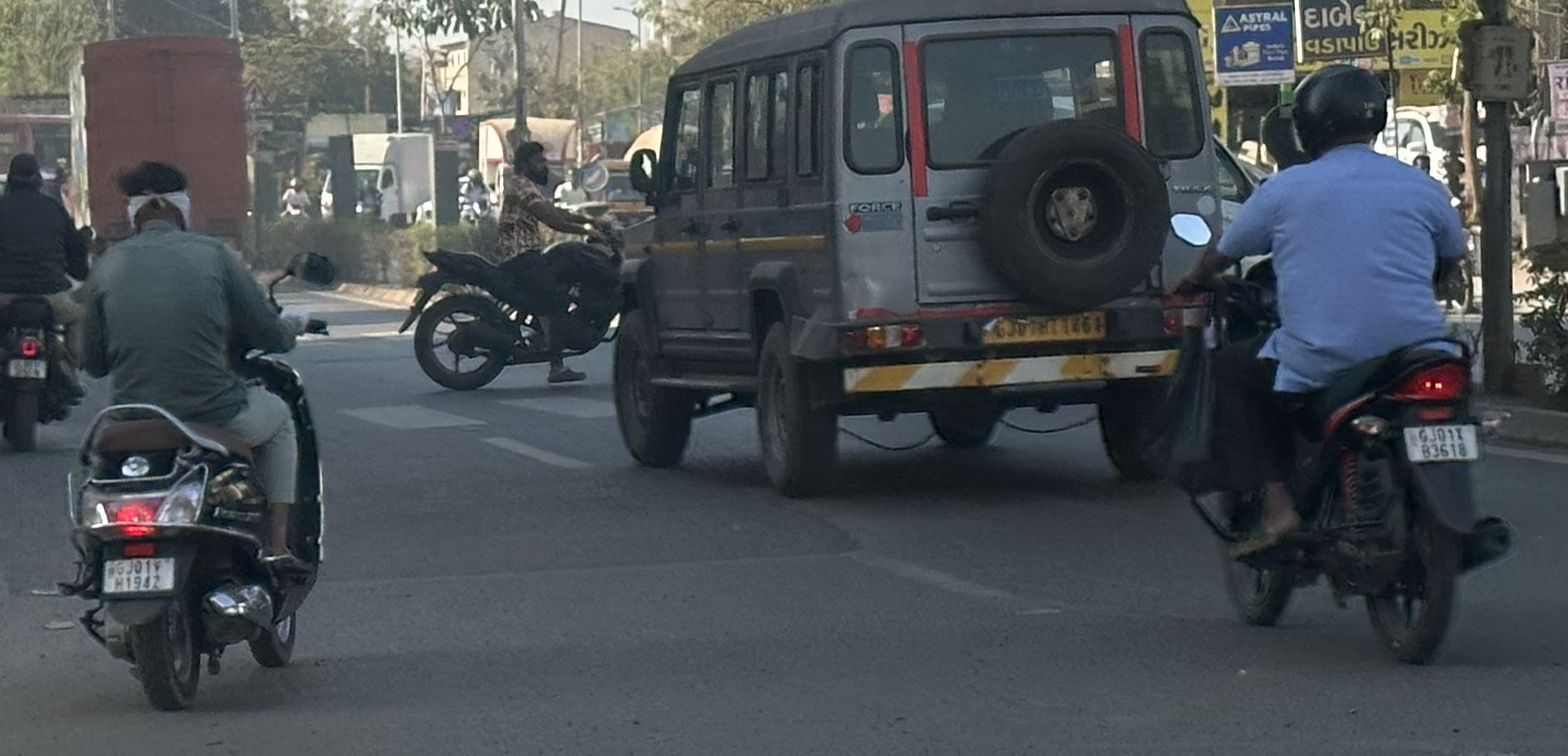BikeWithRider: (1148, 52, 1525, 675), (25, 149, 347, 721), (389, 132, 639, 396), (0, 141, 103, 459)
Helmet: (1279, 54, 1403, 169)
NoHelmet: (107, 152, 202, 240), (0, 146, 52, 201)
